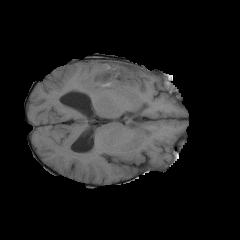glioma: (74, 60, 147, 95)
